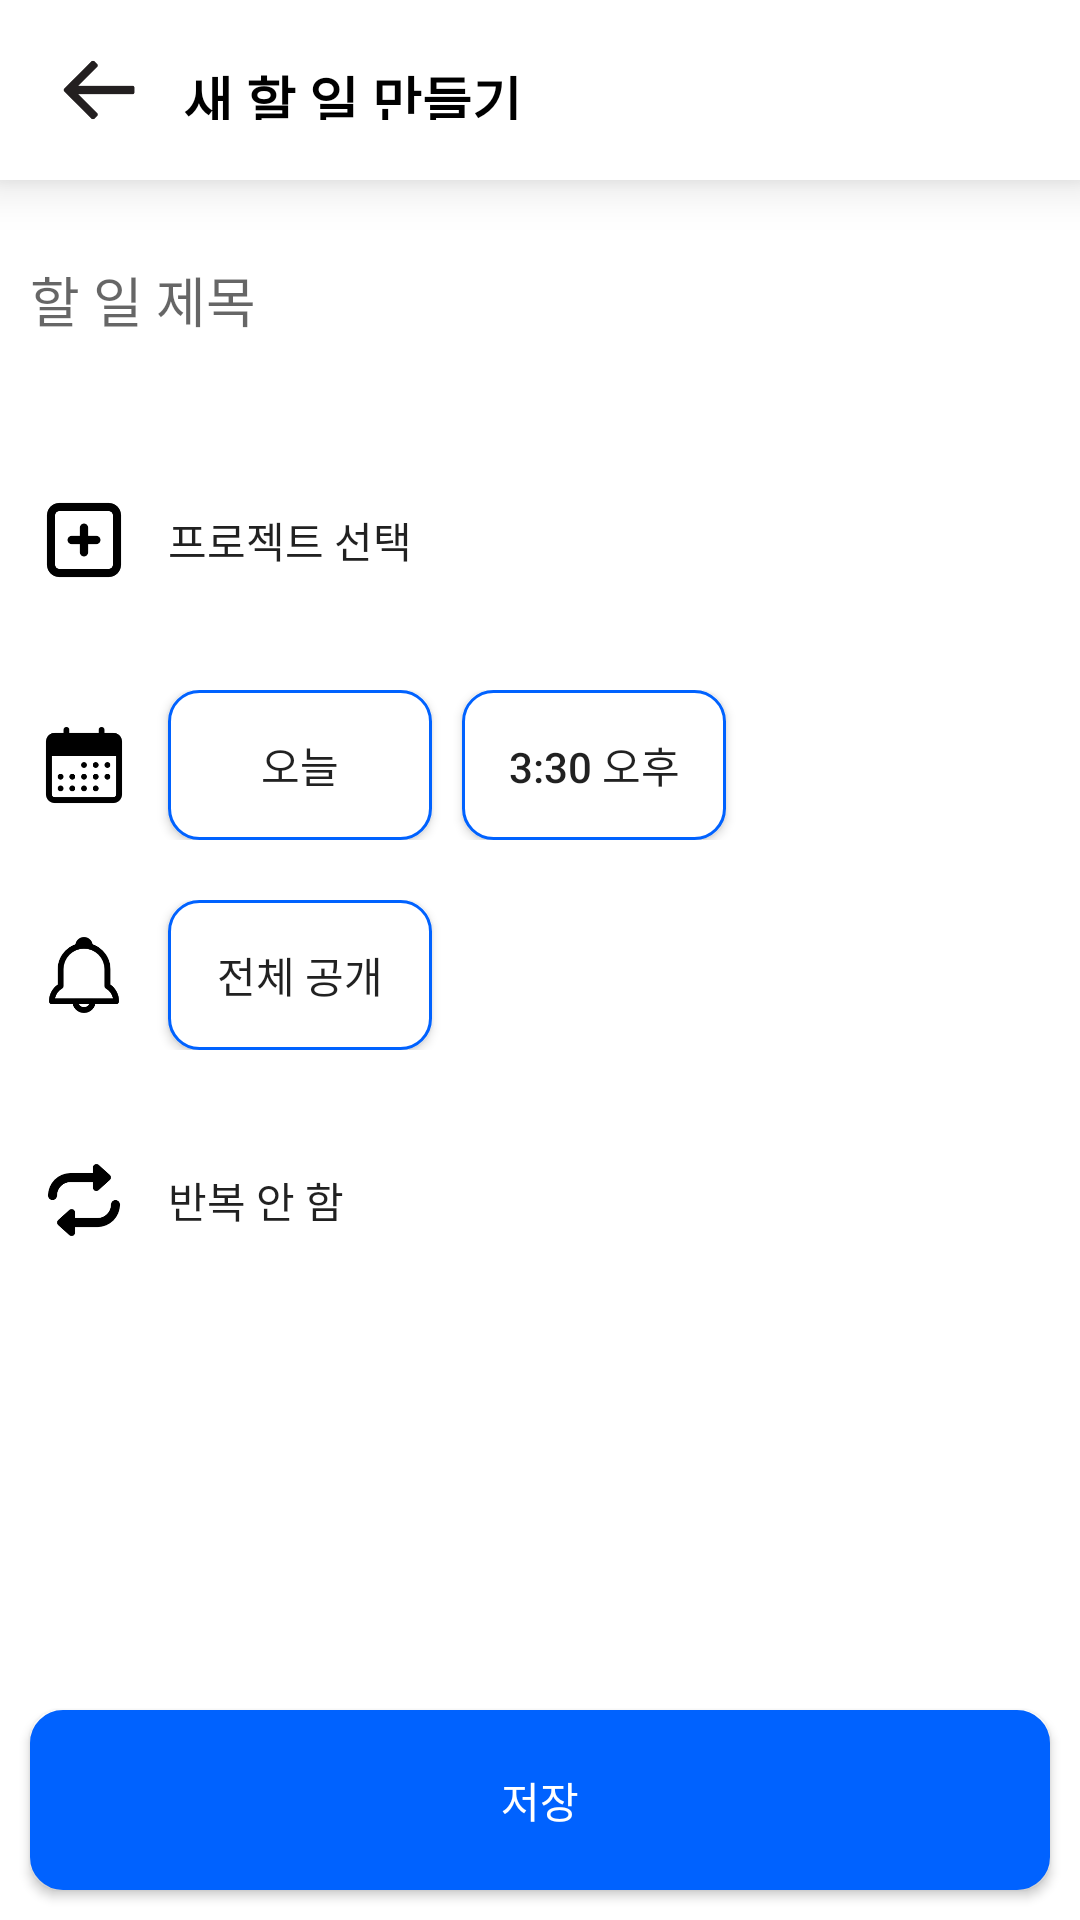

Icons on this 1080×1920 Android screen, each with the point to tap as [x,y]:
back arrow: [99,90]
bell: [84,975]
calendar: [84,765]
repeat: [84,1200]
